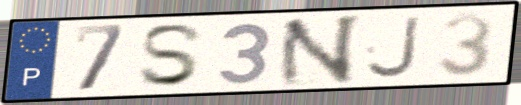3: (434, 9, 496, 81), (215, 19, 275, 86)
7: (72, 22, 126, 94)
J: (362, 14, 422, 81)
N: (275, 12, 365, 89)
S: (135, 21, 208, 89)
